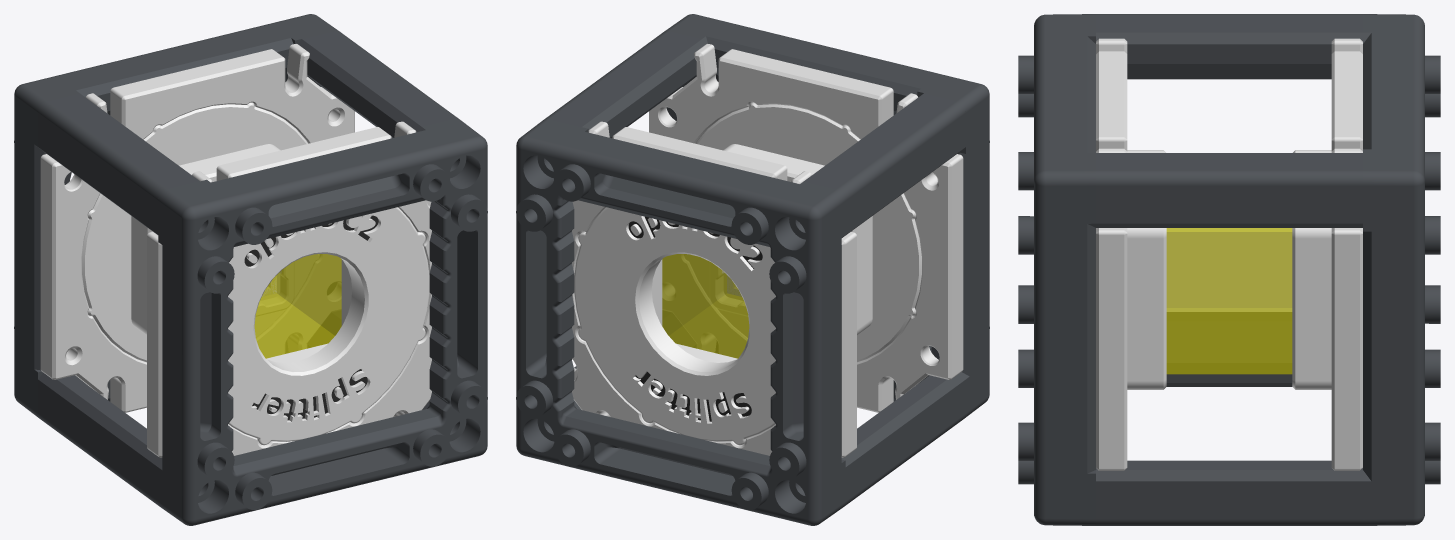
The model's file is ASS_-_2011_-_CUBSPLCUB_-_V04.glb.
3 renders of one model, left to right at view 1: azimuth 30°, elevation 25°; view 2: azimuth 150°, elevation 25°; view 3: azimuth 270°, elevation 25°, orthographic. The views are drawn at different scales.
Parts seen in each view (by area): view 1: PRT - 1003 - CUBHLF111 - V04:2, PRT - 2100 - MASINS - V04:2, PRT - 2103 - MASINSSPLCUB:1, PRT - 1003 - CUBHLF111 - V04:1, PRT - 2103 - MASINSSPLCUB:2, PRT - 2100 - MASINS - V04:1, BUY - Beam splitter cube 20x20x20:1; view 2: PRT - 1003 - CUBHLF111 - V04:1, PRT - 1003 - CUBHLF111 - V04:2, PRT - 2100 - MASINS - V04:1, PRT - 2103 - MASINSSPLCUB:2, PRT - 2103 - MASINSSPLCUB:1, PRT - 2100 - MASINS - V04:2, BUY - Beam splitter cube 20x20x20:1; view 3: PRT - 1003 - CUBHLF111 - V04:1, PRT - 1003 - CUBHLF111 - V04:2, BUY - Beam splitter cube 20x20x20:1, PRT - 2100 - MASINS - V04:1, PRT - 2100 - MASINS - V04:2, PRT - 2103 - MASINSSPLCUB:1, PRT - 2103 - MASINSSPLCUB:2.
Part boxes in pixels (bbox=[...]): PRT - 1003 - CUBHLF111 - V04:2: bbox=[38, 31, 487, 525]; PRT - 2100 - MASINS - V04:2: bbox=[40, 44, 354, 412]; PRT - 2103 - MASINSSPLCUB:1: bbox=[228, 207, 429, 445]; PRT - 1003 - CUBHLF111 - V04:1: bbox=[14, 14, 455, 429]; PRT - 2103 - MASINSSPLCUB:2: bbox=[82, 102, 319, 362]; PRT - 2100 - MASINS - V04:1: bbox=[147, 121, 431, 457]; BUY - Beam splitter cube 20x20x20:1: bbox=[254, 254, 341, 358]; PRT - 1003 - CUBHLF111 - V04:1: bbox=[516, 93, 965, 525]; PRT - 1003 - CUBHLF111 - V04:2: bbox=[544, 14, 989, 506]; PRT - 2100 - MASINS - V04:1: bbox=[649, 44, 963, 412]; PRT - 2103 - MASINSSPLCUB:2: bbox=[574, 207, 775, 445]; PRT - 2103 - MASINSSPLCUB:1: bbox=[684, 102, 921, 362]; PRT - 2100 - MASINS - V04:2: bbox=[572, 121, 856, 457]; BUY - Beam splitter cube 20x20x20:1: bbox=[662, 254, 749, 358]; PRT - 1003 - CUBHLF111 - V04:1: bbox=[1096, 14, 1440, 525]; PRT - 1003 - CUBHLF111 - V04:2: bbox=[1018, 14, 1362, 525]; BUY - Beam splitter cube 20x20x20:1: bbox=[1166, 228, 1292, 374]; PRT - 2100 - MASINS - V04:1: bbox=[1096, 38, 1127, 470]; PRT - 2100 - MASINS - V04:2: bbox=[1331, 38, 1362, 470]; PRT - 2103 - MASINSSPLCUB:1: bbox=[1127, 150, 1166, 389]; PRT - 2103 - MASINSSPLCUB:2: bbox=[1292, 150, 1331, 389].
Size of the model in its own units: 49.8 by 49.8 by 53.8.
